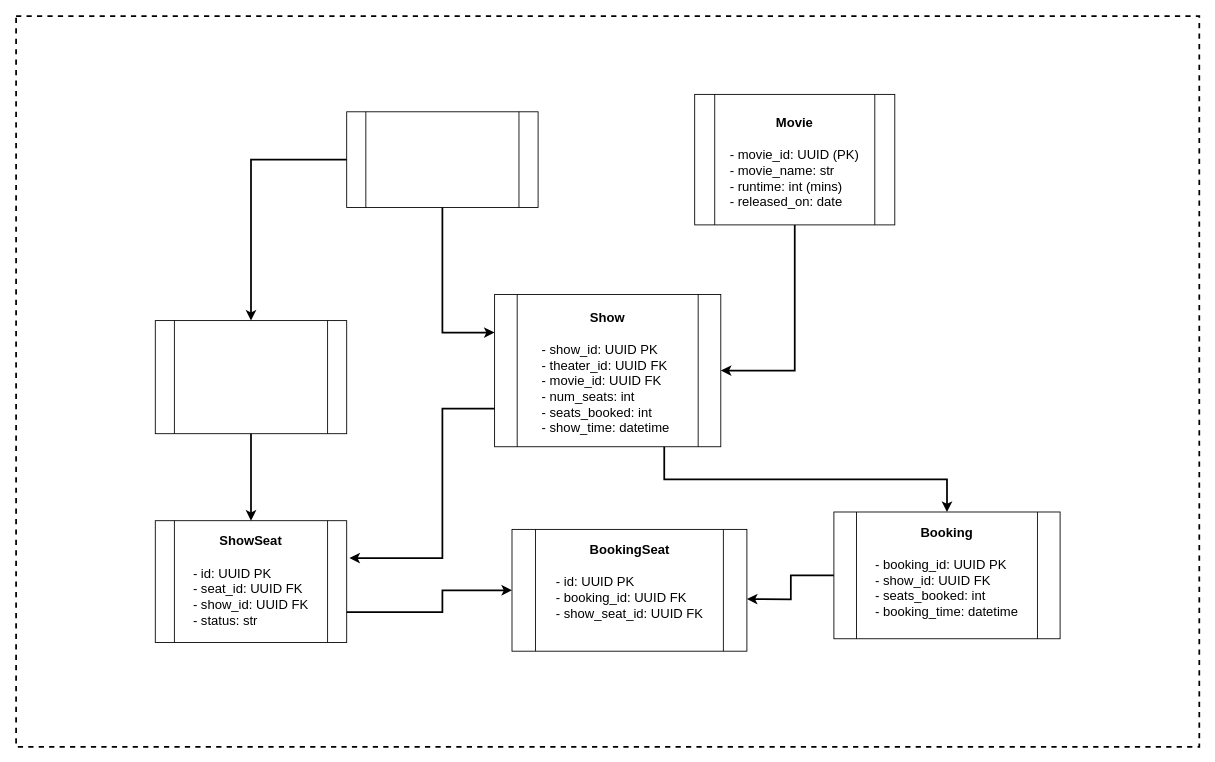
Some shapes in this 1215 by 762 pixel diagram are drawn without their labels. Each missing label, with the centre of its shape:
"Seat - id: UUID PK - theater_id: UUID FK - seat_num: str" belongs at (x=250, y=377).
"Theater - theater_id: UUID (PK) - theater_name: str" belongs at (x=442, y=159).
